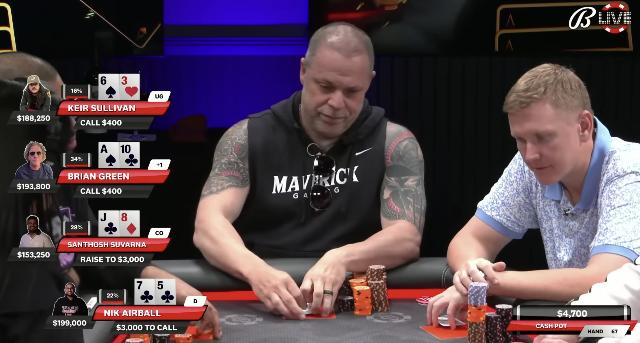10C: (120, 144, 140, 168)
3H: (120, 76, 140, 100)
5C: (156, 280, 174, 306)
6S: (100, 74, 118, 100)
7C: (136, 280, 154, 306)
8D: (120, 211, 138, 236)
AS: (100, 143, 118, 169)
JC: (100, 211, 118, 236)
